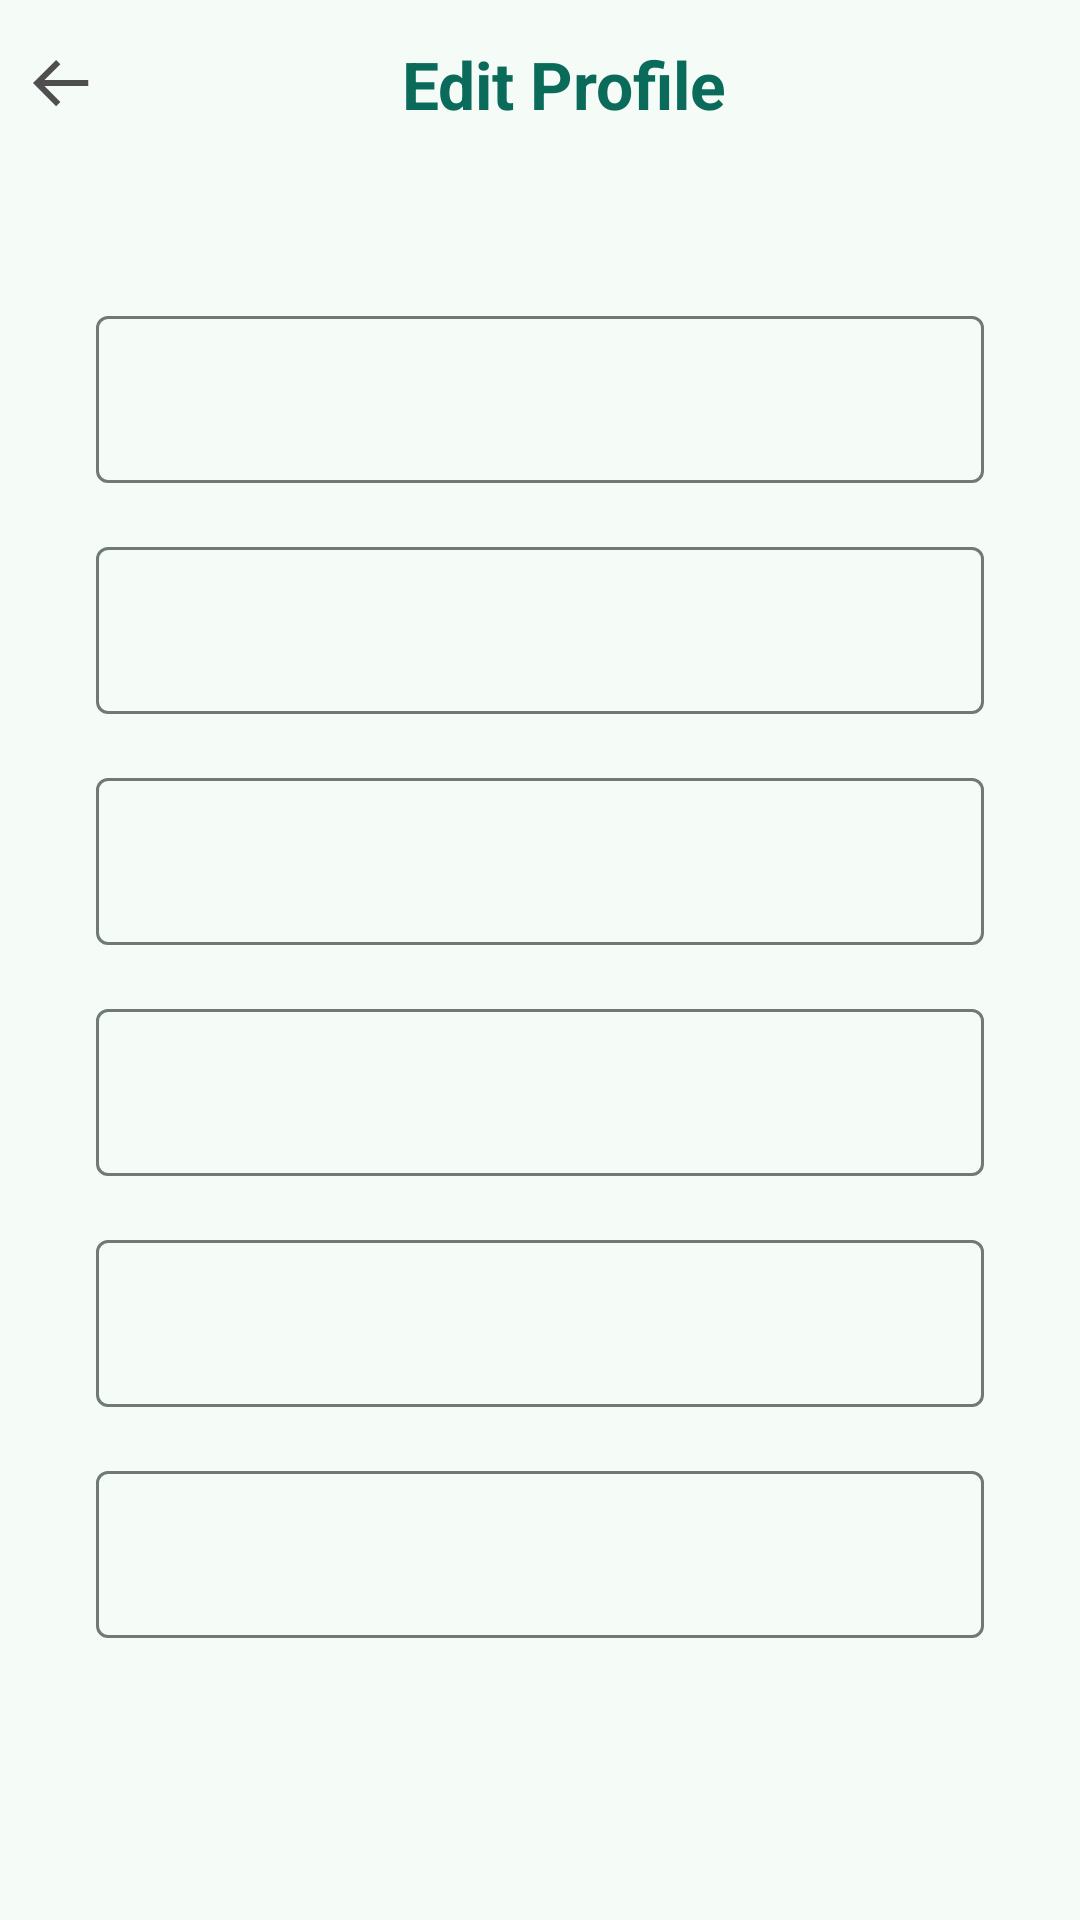

Point at icon controls on the screen. Image size 1080w x 1920h, points as (x=x, y=y).
back: (x=61, y=83)
